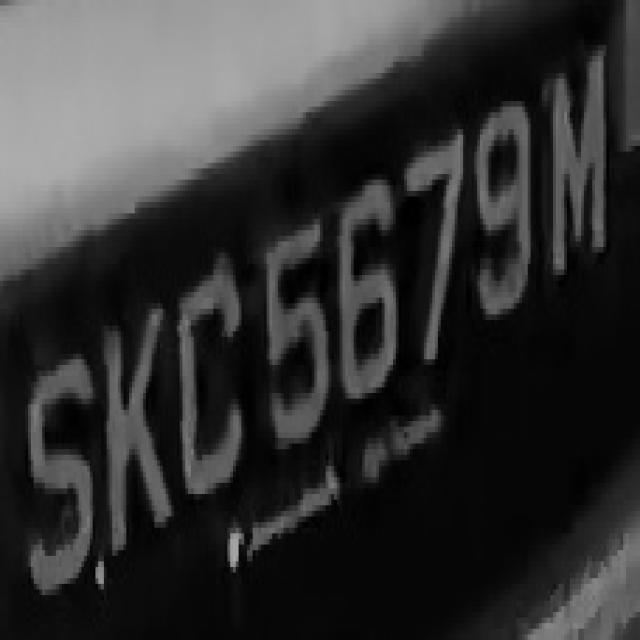5: (258, 208, 337, 449)
6: (328, 163, 412, 404)
7: (396, 140, 472, 376)
9: (458, 101, 548, 320)
C: (174, 253, 244, 516)
K: (104, 303, 177, 550)
M: (542, 39, 612, 264)
S: (25, 354, 101, 606)
